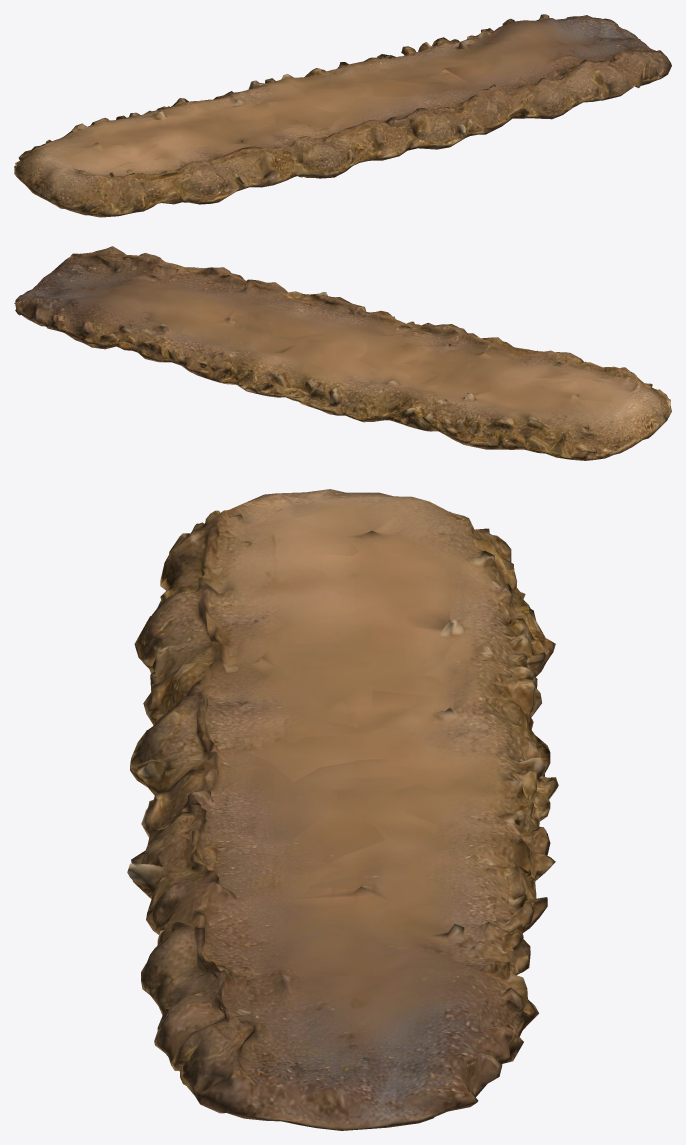
File: dirt-path.glb
The picture shows the model from 3 angles, top to bottom: view 1: azimuth 30°, elevation 25°; view 2: azimuth 150°, elevation 25°; view 3: azimuth 270°, elevation 25°; orthographic projection. The views are drawn at different scales.
Parts seen in each view (by area): view 1: Landscape asset / dirt-path; view 2: Landscape asset / dirt-path; view 3: Landscape asset / dirt-path.
Boxes of the visible parts, <box> form: Landscape asset / dirt-path: <box>14,14,671,217</box>; Landscape asset / dirt-path: <box>14,246,671,460</box>; Landscape asset / dirt-path: <box>127,489,558,1130</box>.
Bounding box in the file's own units: 1 × 0.061 × 0.3031.
1 material, 1 textured.
